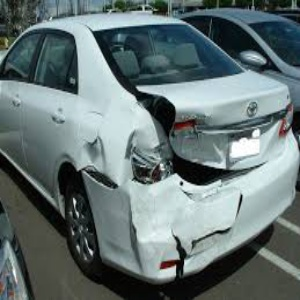bumper: (81, 167, 245, 284)
